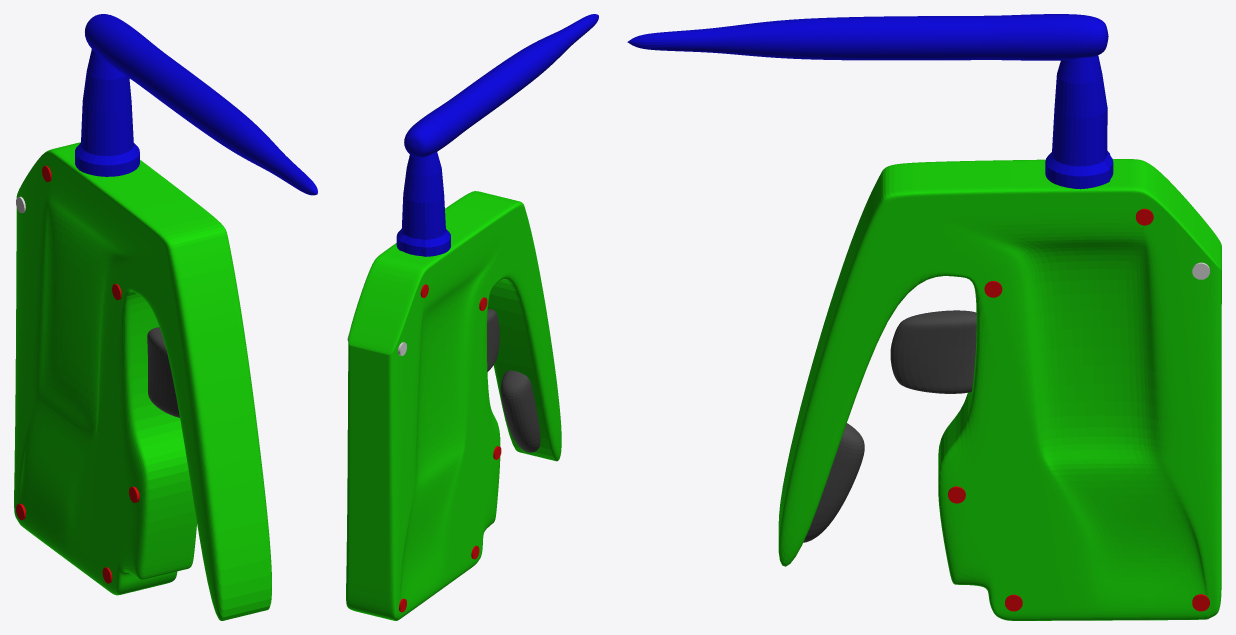
File: C4 trigger.fbx
3 views of the same model, side by side, from view 1: azimuth 30°, elevation 25°; view 2: azimuth 150°, elevation 25°; view 3: azimuth 270°, elevation 25° (orthographic). The views are drawn at different scales.
Visible parts, largest first — view 1: Plane.000; view 2: Plane.000; view 3: Plane.000.
Boxes of the visible parts, box(x1,y1,x2,y2) form: Plane.000: box(14, 14, 317, 620); Plane.000: box(346, 14, 598, 620); Plane.000: box(627, 14, 1221, 620).
Size of the model in its own units: 44 by 367 by 334.
